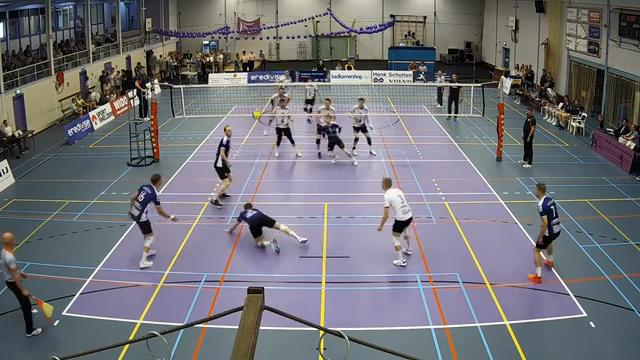difesa: (224, 201, 318, 257)
